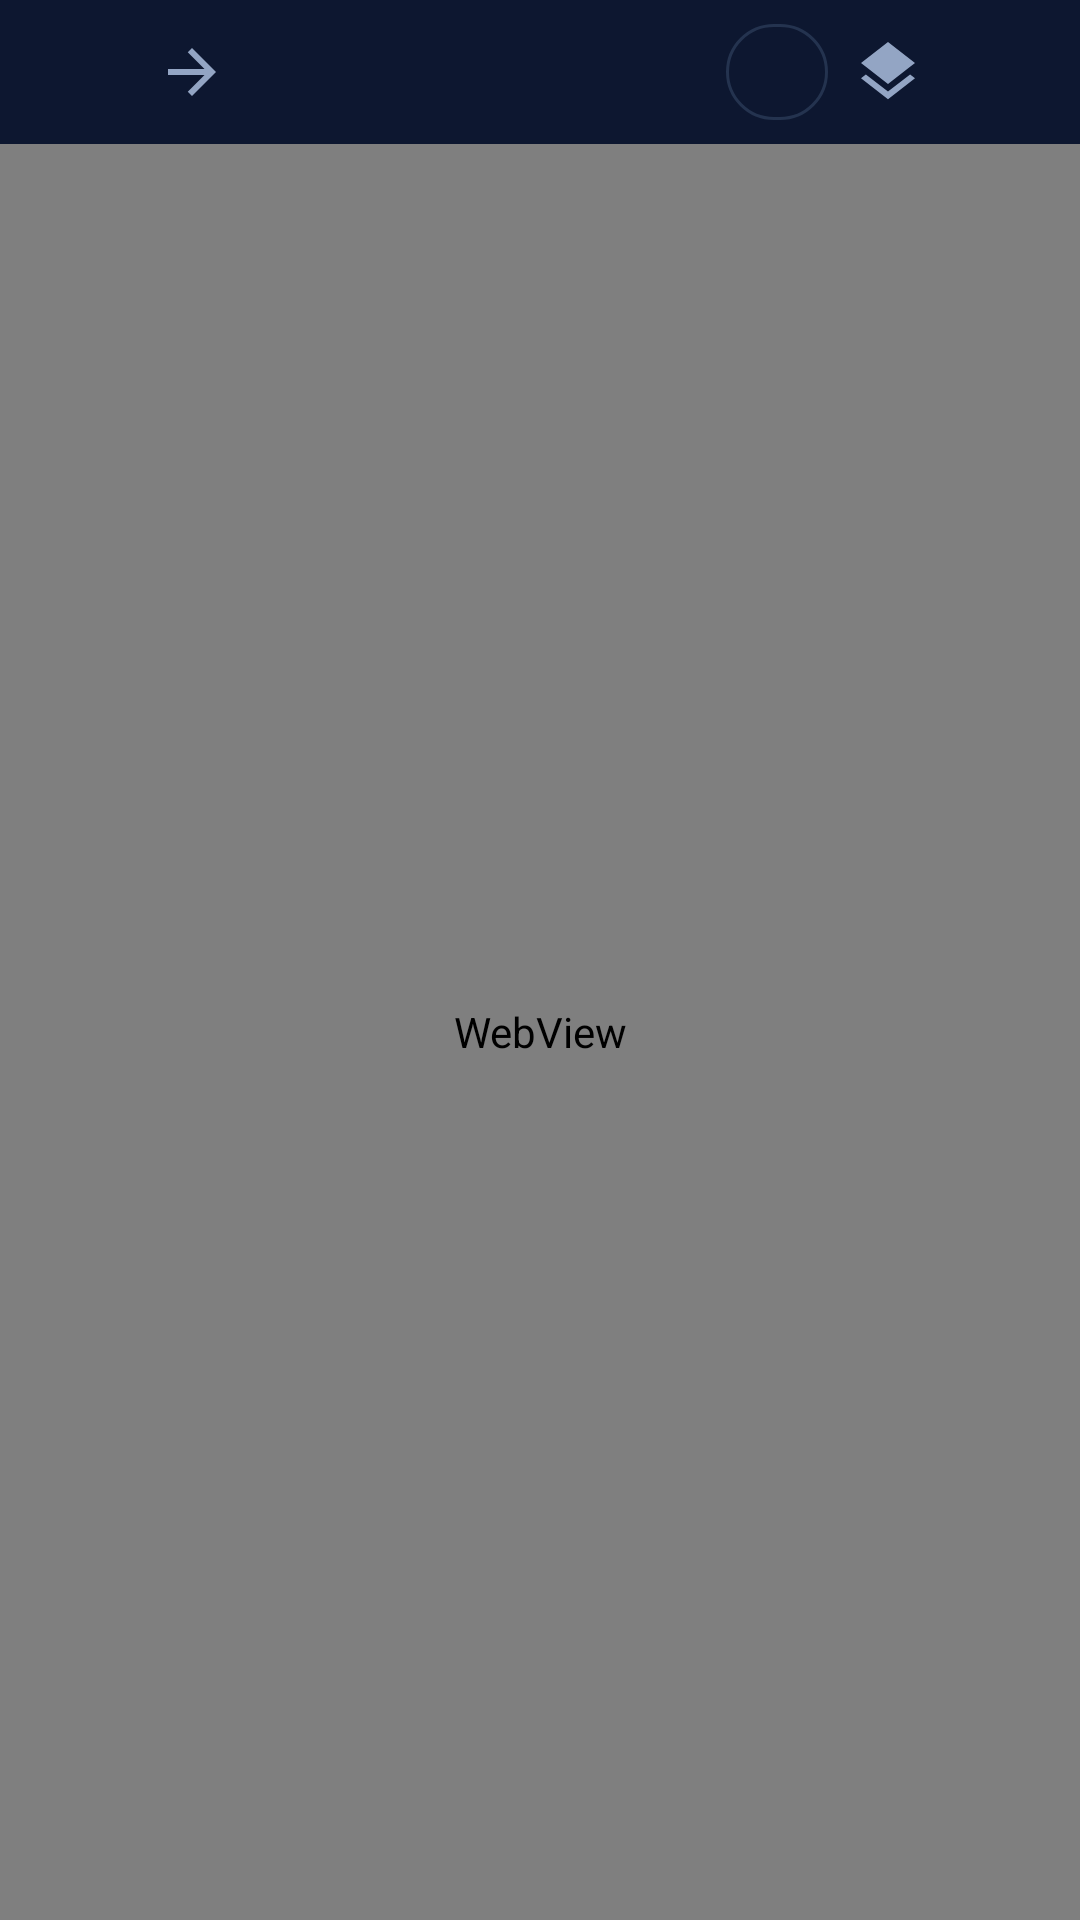

Named icons in this screenshot (1080×1920) and their centers, [x,y]:
layers: [888,70]
جلو: [192,72]
